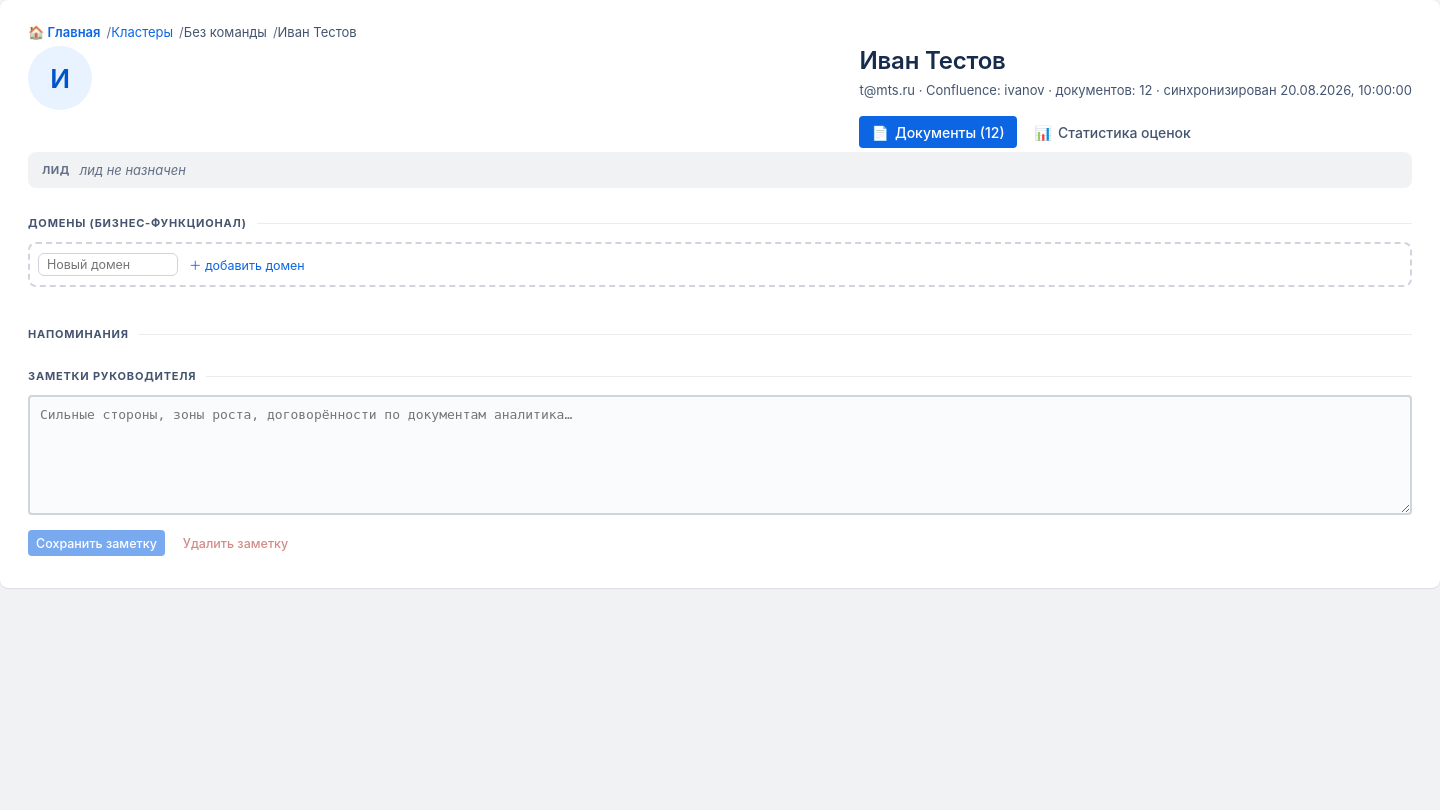
AnalystProfilePage › saves the note via PUT
Replace the text in the text box named "Заметка руководителя" with "новая заметка" at point(720, 455), box [28,395,1412,515]
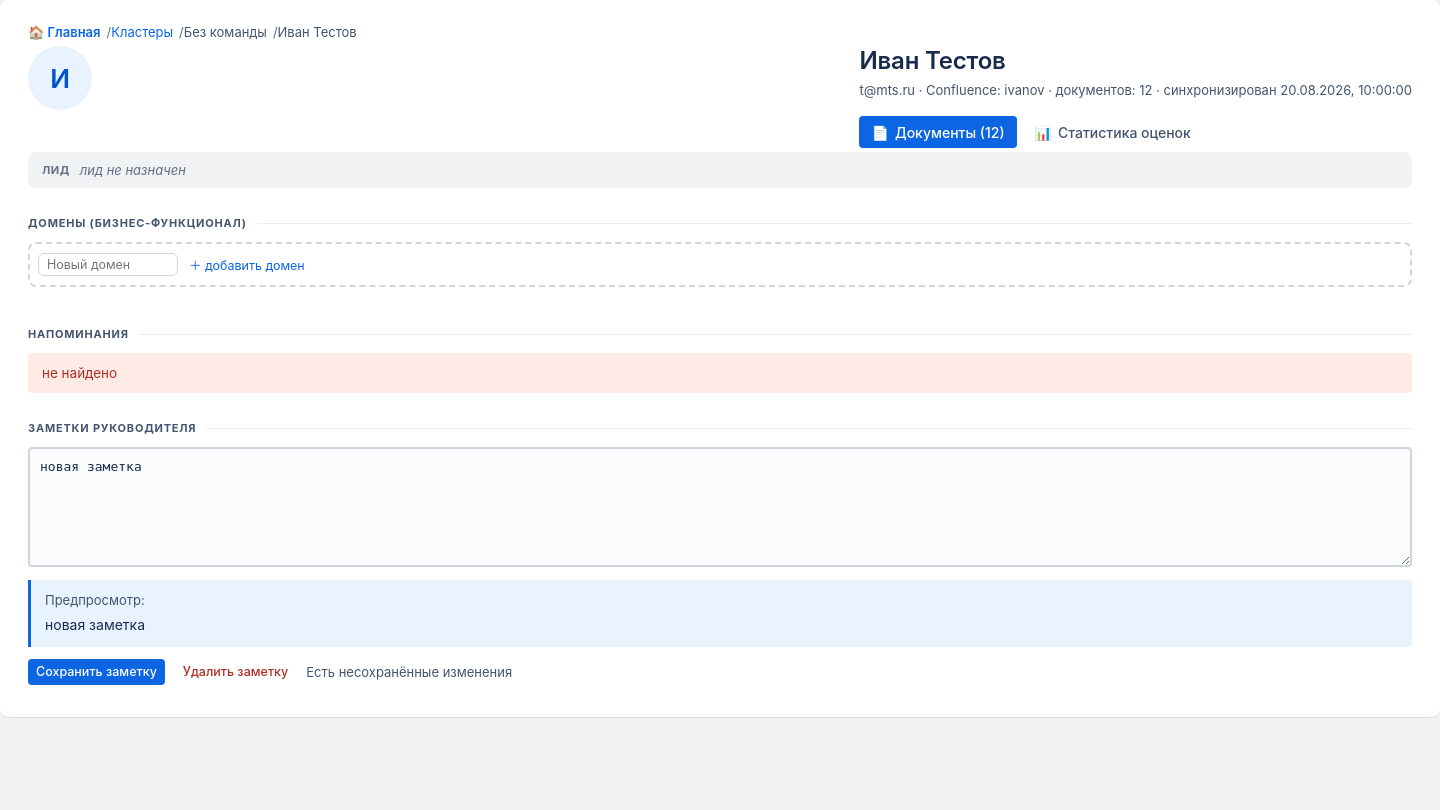
Click the button "Сохранить заметку".
click(96, 672)  # box [28,659,165,685]
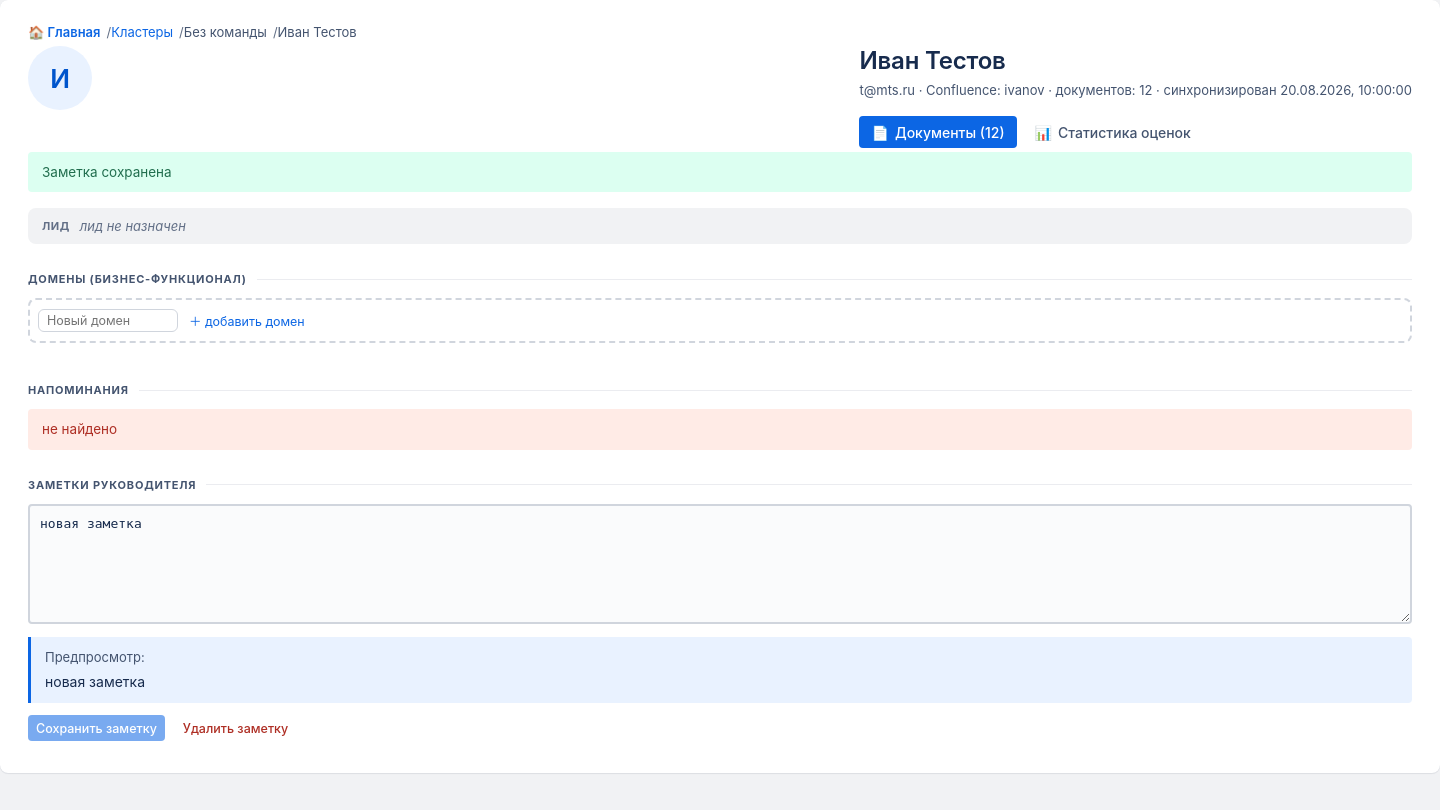
Expected: the text "Заметка сохранена" is shown, [28,152,1412,192]
